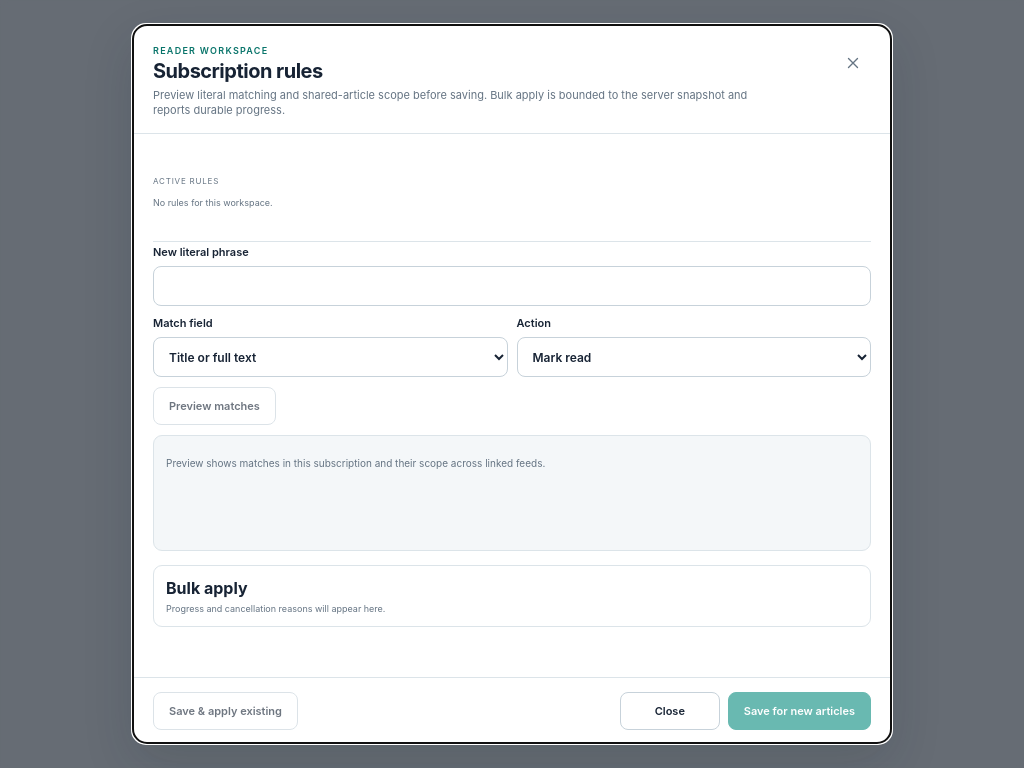
Scenario: RulesDialog › shows matched, shared, total and sample scope from server preview
Type "career" into the field labelled "New literal phrase" at (512, 286), box [153,266,871,306]
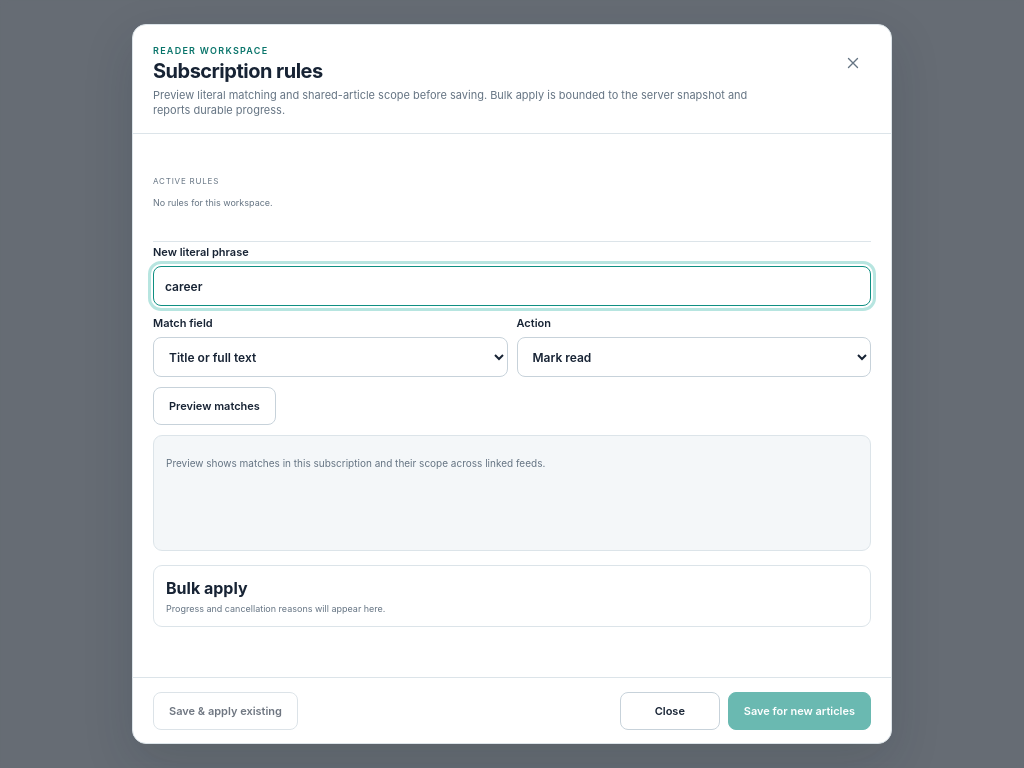
Select "Title" in the dropdown labelled "Match field" at (330, 357), box [153,337,508,377]
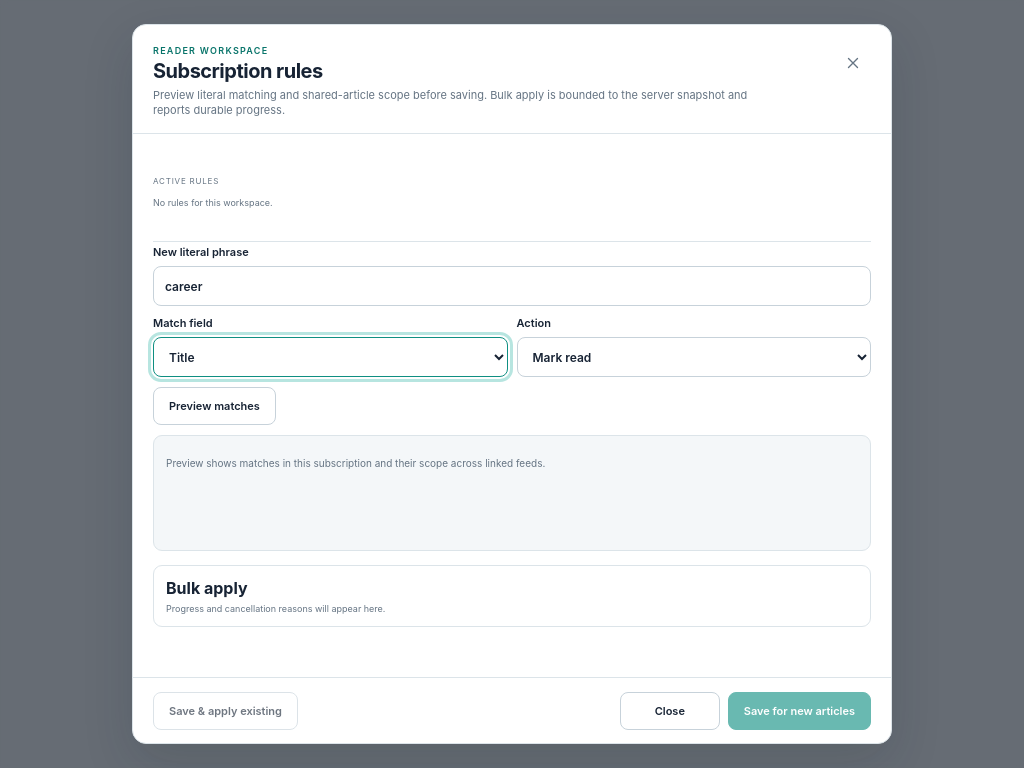
Select "Mark read" in the dropdown labelled "Action" at (694, 357), box [516,337,871,377]
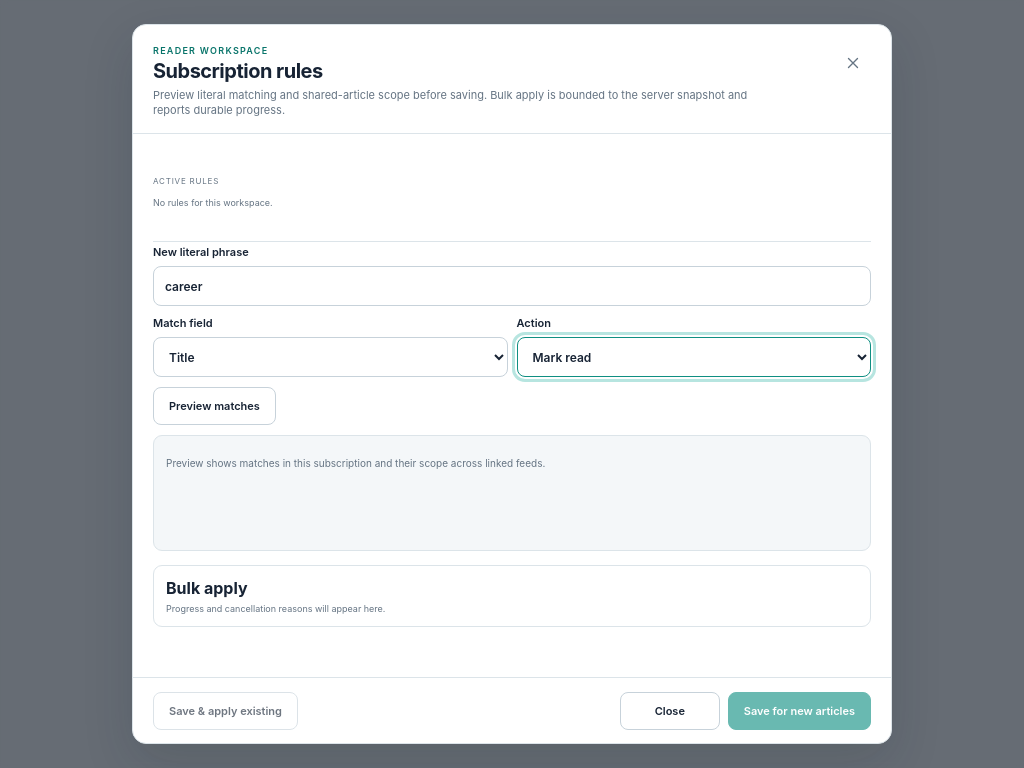
Click the button "Preview matches" at (214, 406), box [153,387,276,425]
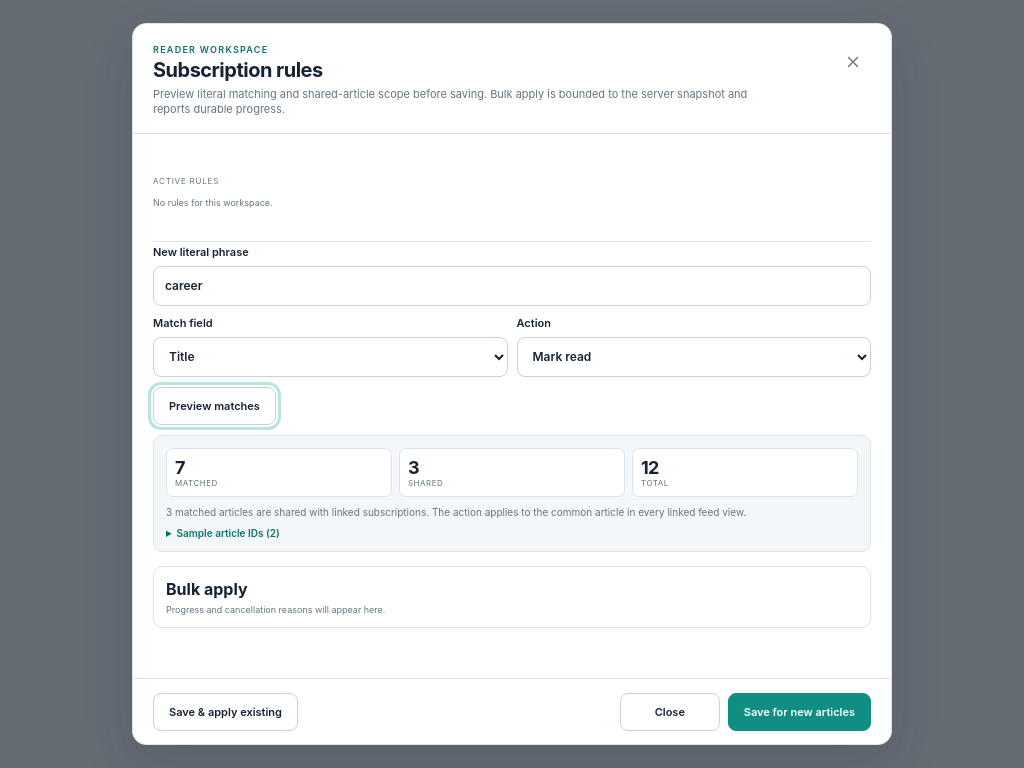
Expected: the text "7" is shown, [175,457,185,478]
Expected: the text "3" is shown, [408,457,419,478]
Expected: the text "12" is shown, [641,457,659,478]
Click the heading "Sample article IDs (2)" at (228, 533), box [177,527,280,539]
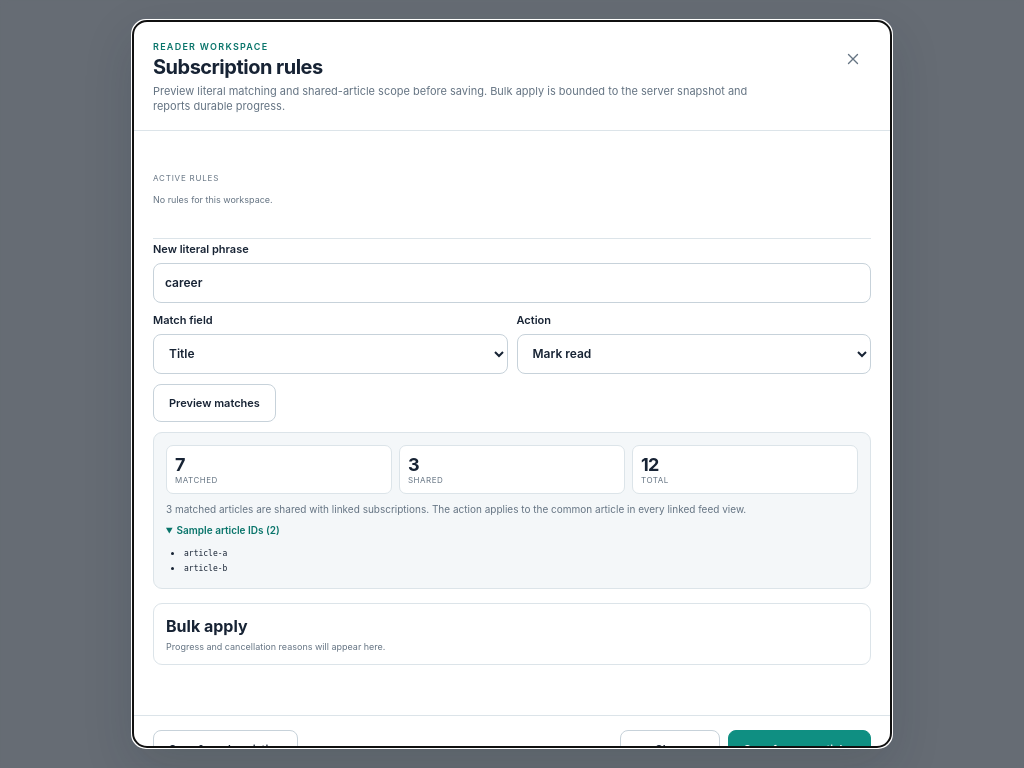
Expected: the text "article-a" is shown, [184,549,227,558]
Type "s" into the field labelled "New literal phrase" at (512, 283), box [153,263,871,303]
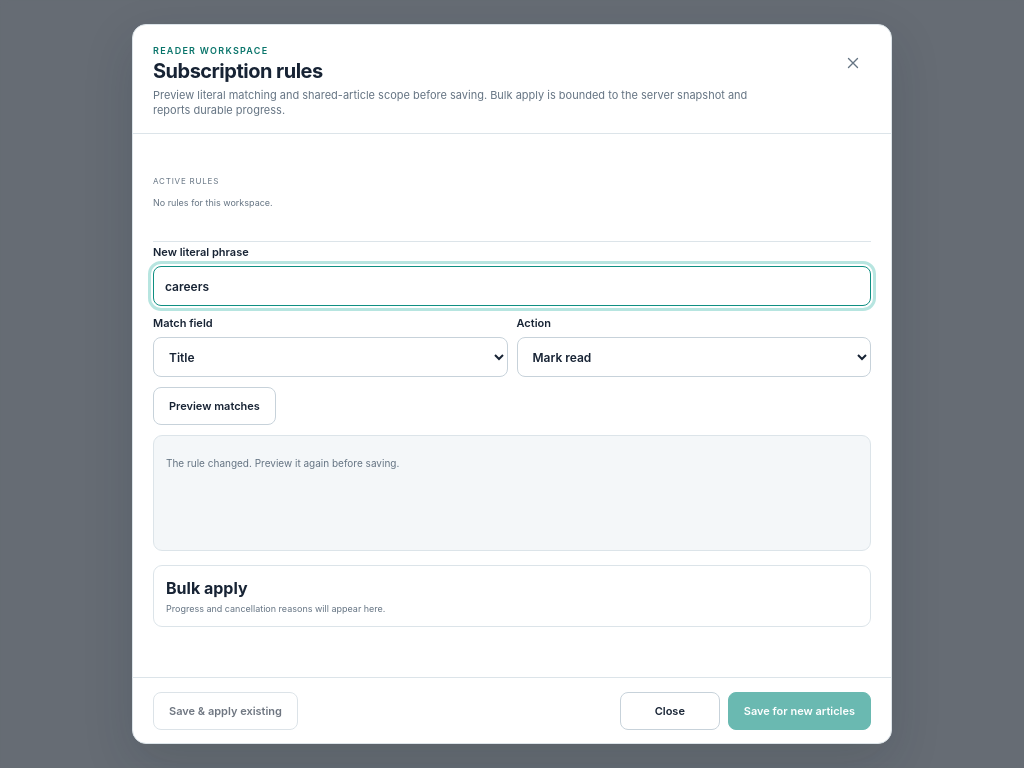
Expected: the text "The rule changed. Preview it again before saving." is shown, [166,457,399,469]
Expected: the button "Save & apply existing" is disabled, [153,692,298,730]
